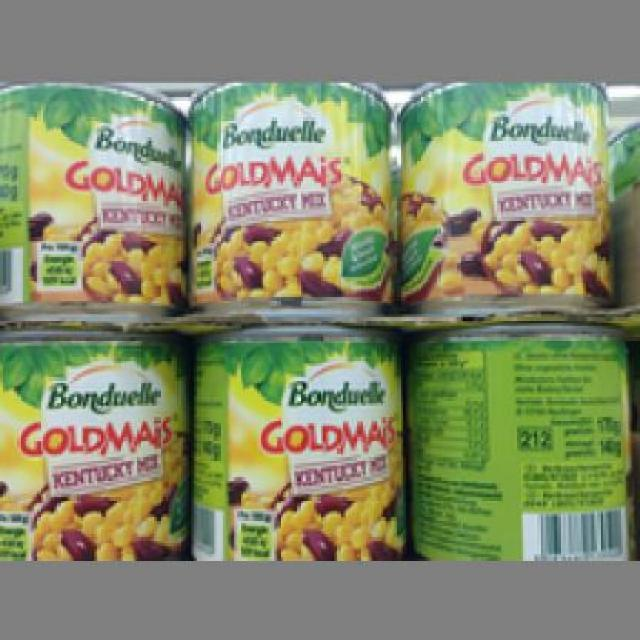Corn: (397, 323, 632, 557), (186, 323, 406, 557), (179, 77, 395, 306), (394, 82, 612, 308), (0, 326, 189, 557), (0, 80, 183, 306)
